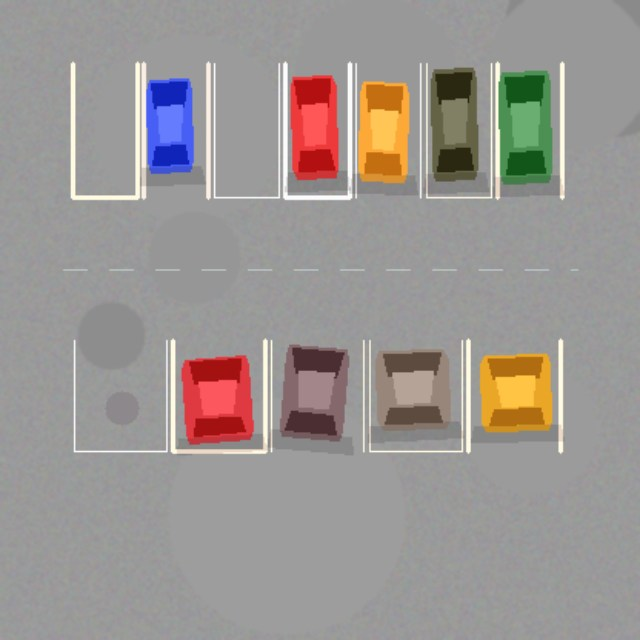space-empty: (74, 340, 166, 451), (72, 63, 137, 197), (214, 63, 278, 197)
space-occupied: (172, 340, 265, 451), (369, 340, 462, 451), (271, 340, 363, 451), (468, 340, 560, 451), (143, 63, 208, 197), (355, 63, 420, 197), (426, 63, 491, 197), (497, 63, 562, 197), (285, 63, 349, 197)
